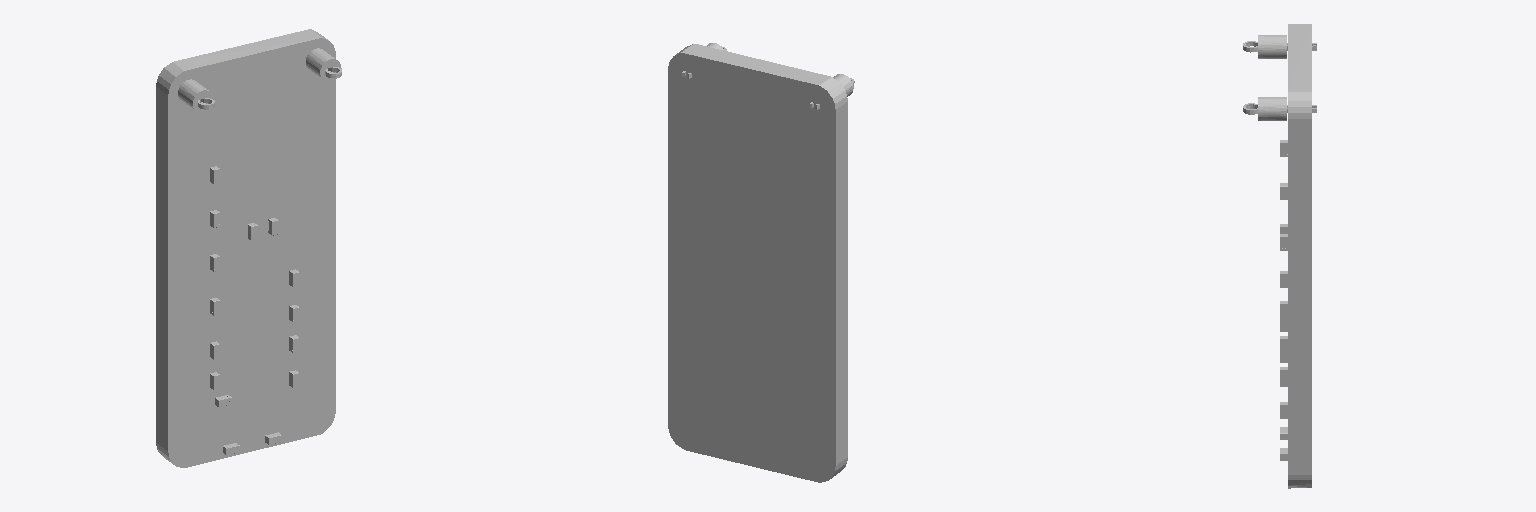
File: OBJ_PCB_Teensy Tester.obj
The picture shows the model from 3 angles: view 1: azimuth 30°, elevation 25°; view 2: azimuth 150°, elevation 25°; view 3: azimuth 270°, elevation 25°; orthographic projection.
Size of the model in its own units: 78.8 by 179 by 29.93.